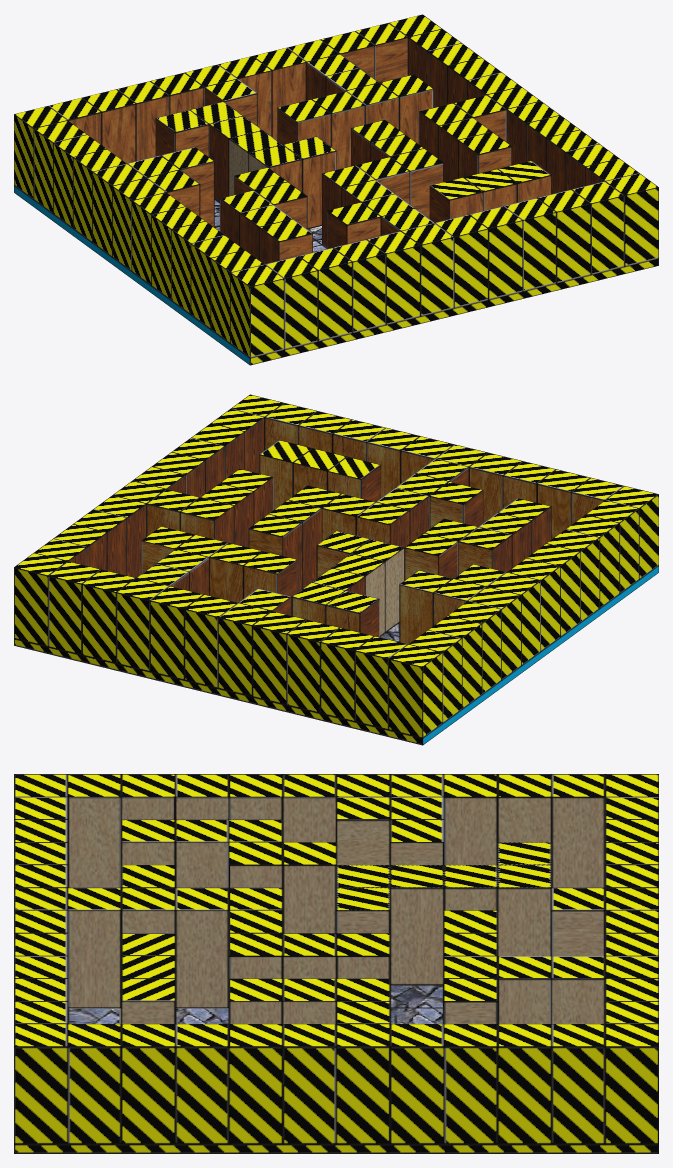
The model's file is maze.glb.
3 renders of one model, top to bottom at view 1: azimuth 30°, elevation 25°; view 2: azimuth 150°, elevation 25°; view 3: azimuth 270°, elevation 25°, orthographic. The views are drawn at different scales.
Parts seen in each view (by area): view 1: Cube; view 2: Cube; view 3: Cube.
Part boxes in pixels (left/top/right/bottom): Cube: left=14, top=14, right=658, bottom=365; Cube: left=14, top=394, right=658, bottom=745; Cube: left=14, top=774, right=658, bottom=1153.
Size of the model in its own units: 12 by 2.2 by 12.
1 material, 1 textured.
